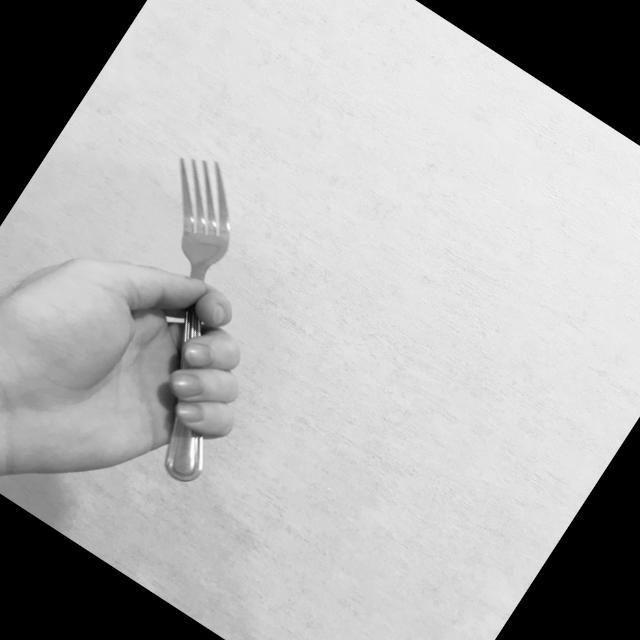fork: (27, 140, 350, 492)
